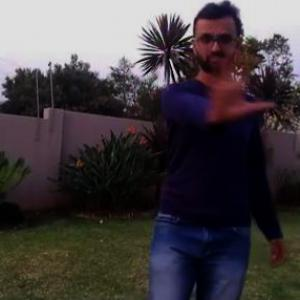follow_hand: (198, 43, 276, 119)
